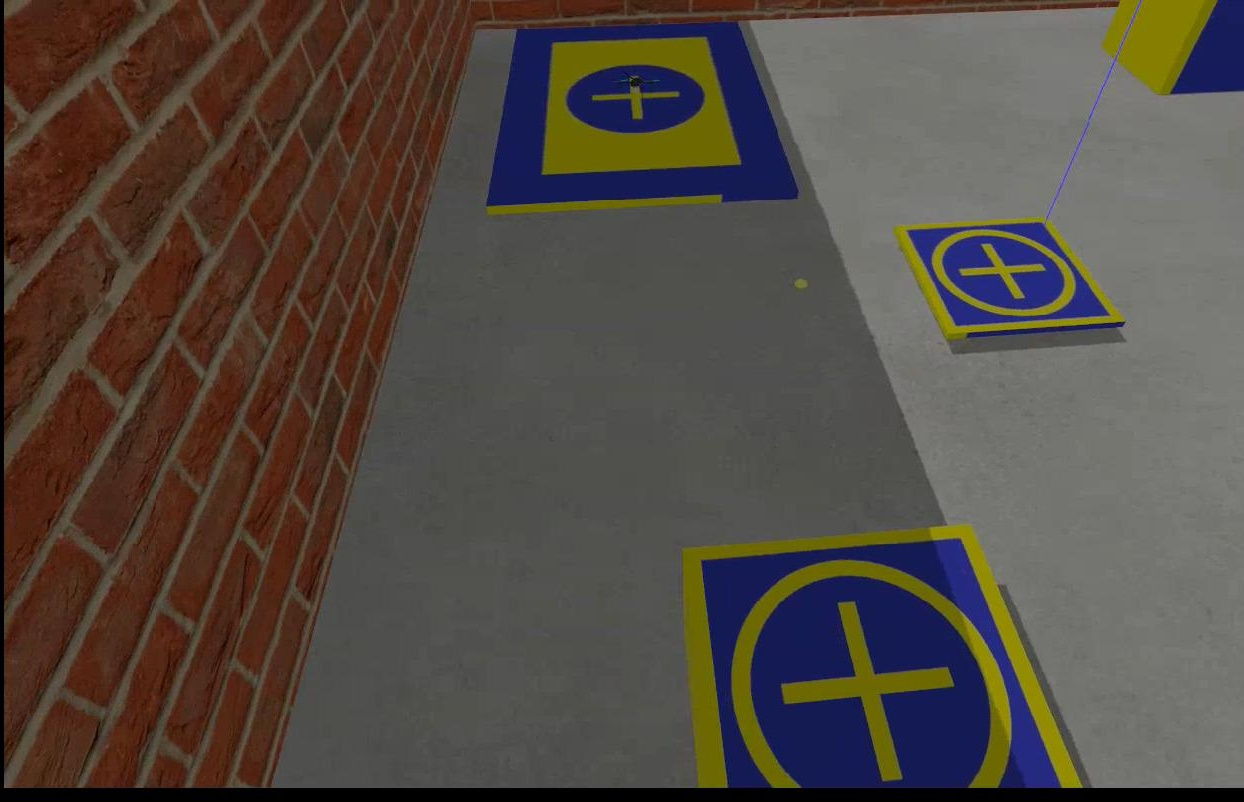large_base: (482, 13, 801, 225)
small_base: (675, 527, 1080, 789), (893, 207, 1123, 349)
